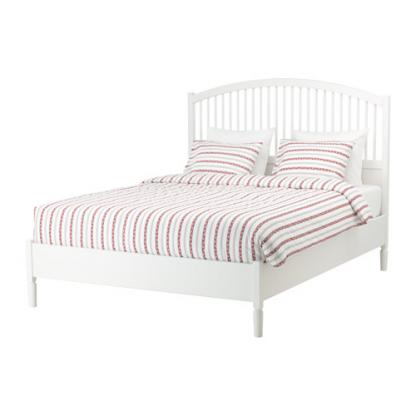Bed: (25, 73, 392, 337)
